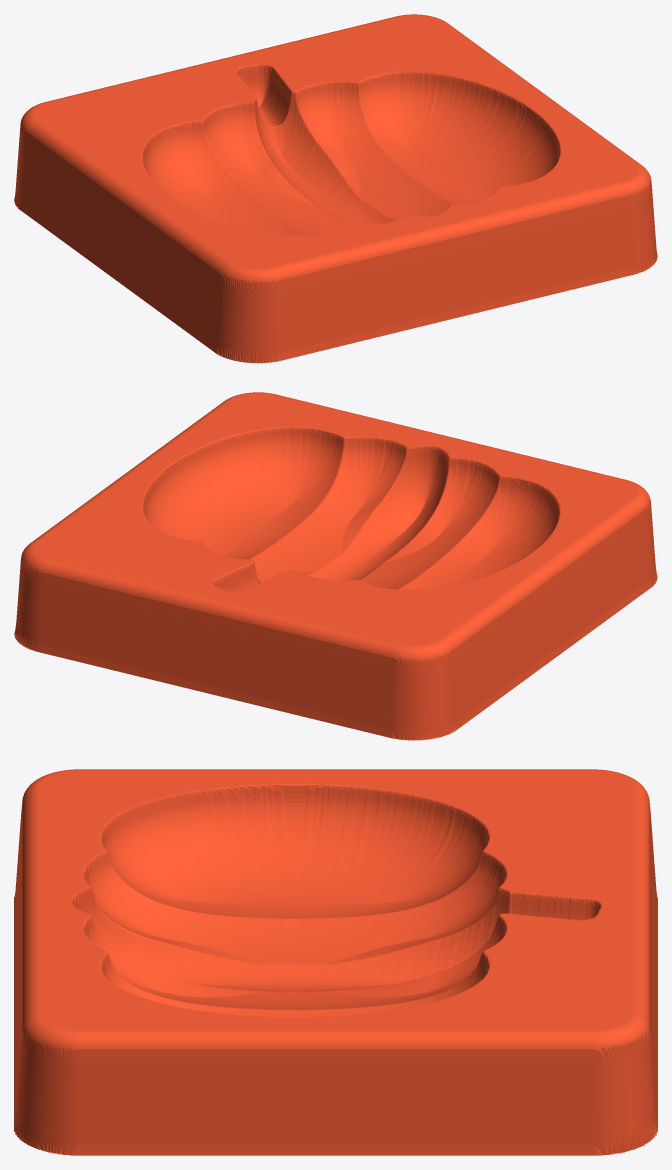
The model's file is mold.glb.
3 renders of one model, top to bottom at view 1: azimuth 30°, elevation 25°; view 2: azimuth 150°, elevation 25°; view 3: azimuth 270°, elevation 25°, orthographic. The views are drawn at different scales.
Visible parts, largest first — view 1: geometry_0; view 2: geometry_0; view 3: geometry_0.
Boxes of the visible parts, x1=… form: geometry_0: x1=14, y1=14, x2=657, y2=363; geometry_0: x1=14, y1=392, x2=657, y2=740; geometry_0: x1=14, y1=769, x2=657, y2=1155.
Bounding box in the file's own units: 0.0924 × 0.0175 × 0.0894.
